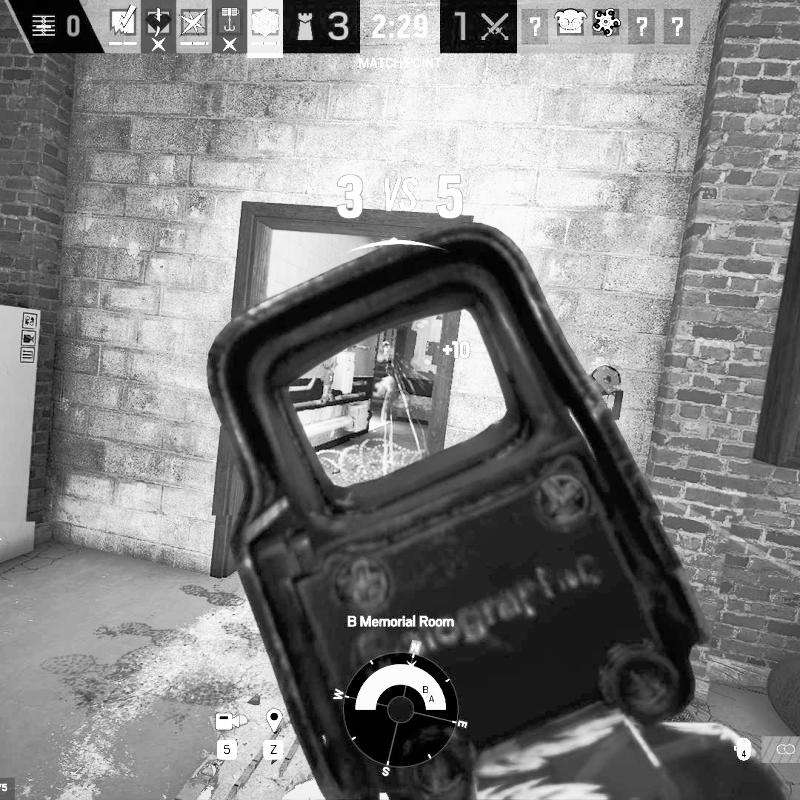Character: (383, 340, 394, 378)
Head: (384, 342, 390, 350)
